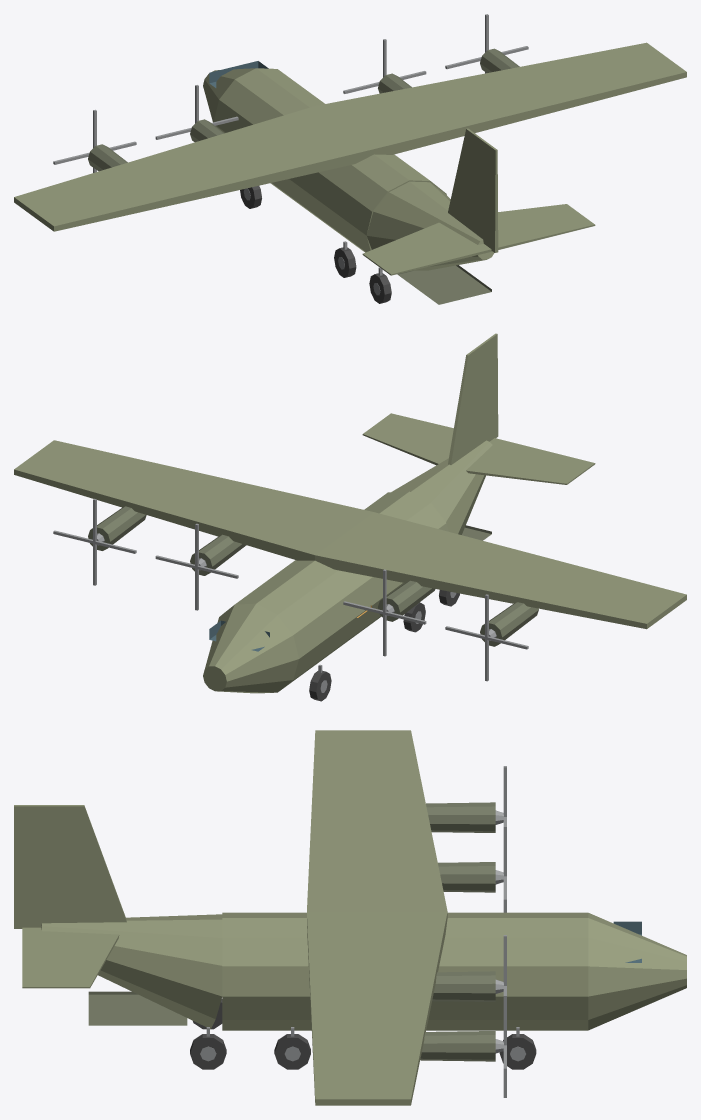
File: mass_airlifter.glb
3 views of the same model, one above another, from view 1: azimuth 30°, elevation 25°; view 2: azimuth 150°, elevation 25°; view 3: azimuth 270°, elevation 25° (orthographic). The views are drawn at different scales.
Visible parts, largest first — view 1: mass_airlifter; view 2: mass_airlifter; view 3: mass_airlifter.
Part boxes in pixels (left/top/right/bottom): mass_airlifter: left=14, top=14, right=686, bottom=304; mass_airlifter: left=14, top=333, right=686, bottom=701; mass_airlifter: left=14, top=730, right=686, bottom=1105.
Bounding box in the file's own units: 31 × 9.47 × 23.9.
